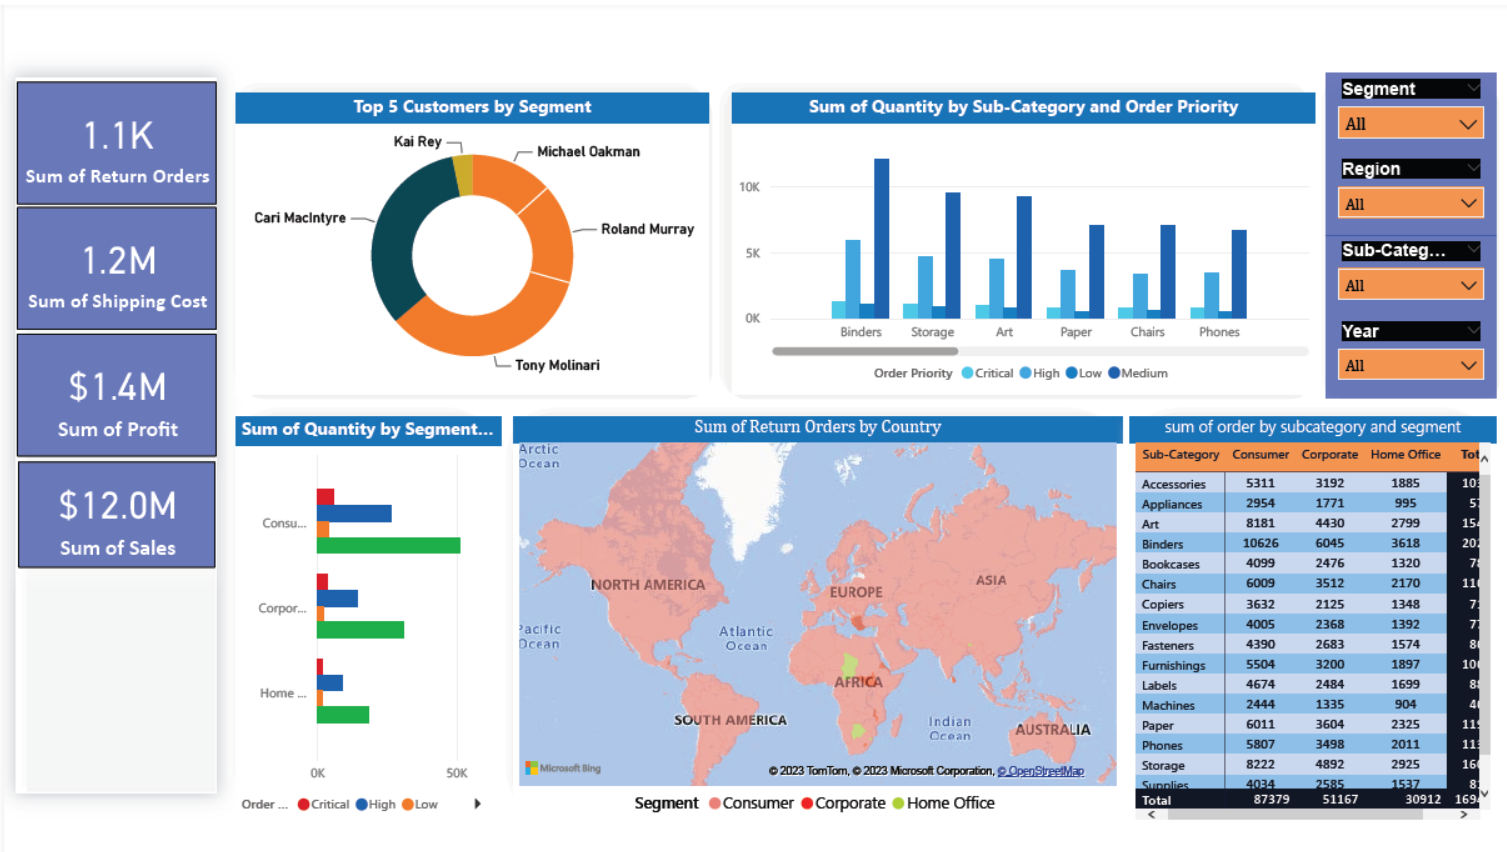

This screenshot's page, from the dashboard's own definition file:
{"tool":"powerbi","page":{"name":"Page 2","canvas":[1280,720],"ordinal":1},"visuals":[{"type":"slicer","fields":{"Values":["Orders.Year"]},"box":[1120.4,262,142.3,69.9],"z":0},{"type":"slicer","fields":{"Values":["Orders.Sub-Category"]},"box":[1120.4,194.2,142.3,66.3],"z":1000},{"type":"slicer","fields":{"Values":["Orders.Region"]},"box":[1120.4,125.4,142.3,68.7],"z":2000},{"type":"slicer","fields":{"Values":["Orders.Segment"]},"box":[1120.4,56.7,142.3,67.5],"z":3000},{"type":"card","fields":{"Values":["Orders.Profit"]},"box":[13.1,277.4,168.8,103.7],"z":4000},{"type":"card","fields":{"Values":["Orders.Sales"]},"box":[13.7,384.5,167.6,90.6],"z":5000},{"type":"card","fields":{"Values":["Returns.Return Orders"]},"box":[13.3,63.9,168.8,103.7],"z":6000},{"type":"card","fields":{"Values":["Orders.Shipping Cost"]},"box":[13.3,170.1,168.8,103.7],"z":7000},{"type":"filledMap","title":"Sum of Return Orders by Country","fields":{"Category":["Orders.Country","Returns.Region"],"Series":["Orders.Segment"]},"box":[433,347,514,346],"z":8000},{"type":"clusteredBarChart","fields":{"Category":["Orders.Segment"],"Y":["Orders.Quantity"],"Series":["Orders.Order Priority"]},"box":[197.8,347.3,224.3,346.1],"z":9000},{"type":"clusteredColumnChart","fields":{"Series":["Orders.Order Priority"],"Category":["Orders.Sub-Category"],"Y":["Orders.Quantity"]},"box":[618,74.2,491.7,254.1],"z":10000},{"type":"donutChart","title":"Top 5 Customers by Segment","fields":{"Category":["Orders.Segment"],"Y":["Orders.Order ID"],"Series":["Orders.Customer Name"]},"box":[197.8,73.6,400.4,254.5],"z":11000},{"type":"pivotTable","title":"sum of order by subcategory and segment","fields":{"Rows":["Orders.Sub-Category"],"Columns":["Orders.Segment"],"Values":["Orders.Quantity"]},"box":[954,347.3,308.7,346.1],"z":12000}]}

Visuals, with their boxes in screenshot pixels (x1, y1, x2, y2), scaled from the page's 1280x720 canvas onto the 1507x852 screenshot:
slicer - Orders.Year: bbox=(1319, 310, 1487, 393)
slicer - Orders.Sub-Category: bbox=(1319, 230, 1487, 308)
slicer - Orders.Region: bbox=(1319, 148, 1487, 230)
slicer - Orders.Segment: bbox=(1319, 67, 1487, 147)
card - Orders.Profit: bbox=(15, 328, 214, 451)
card - Orders.Sales: bbox=(16, 455, 213, 562)
card - Returns.Return Orders: bbox=(16, 76, 214, 198)
card - Orders.Shipping Cost: bbox=(16, 201, 214, 324)
"Sum of Return Orders by Country" filledMap: bbox=(510, 411, 1115, 820)
clusteredBarChart - Orders.Segment x Orders.Quantity: bbox=(233, 411, 497, 821)
clusteredColumnChart - Orders.Order Priority x Orders.Sub-Category: bbox=(728, 88, 1306, 388)
"Top 5 Customers by Segment" donutChart: bbox=(233, 87, 704, 388)
"sum of order by subcategory and segment" pivotTable: bbox=(1123, 411, 1487, 821)
